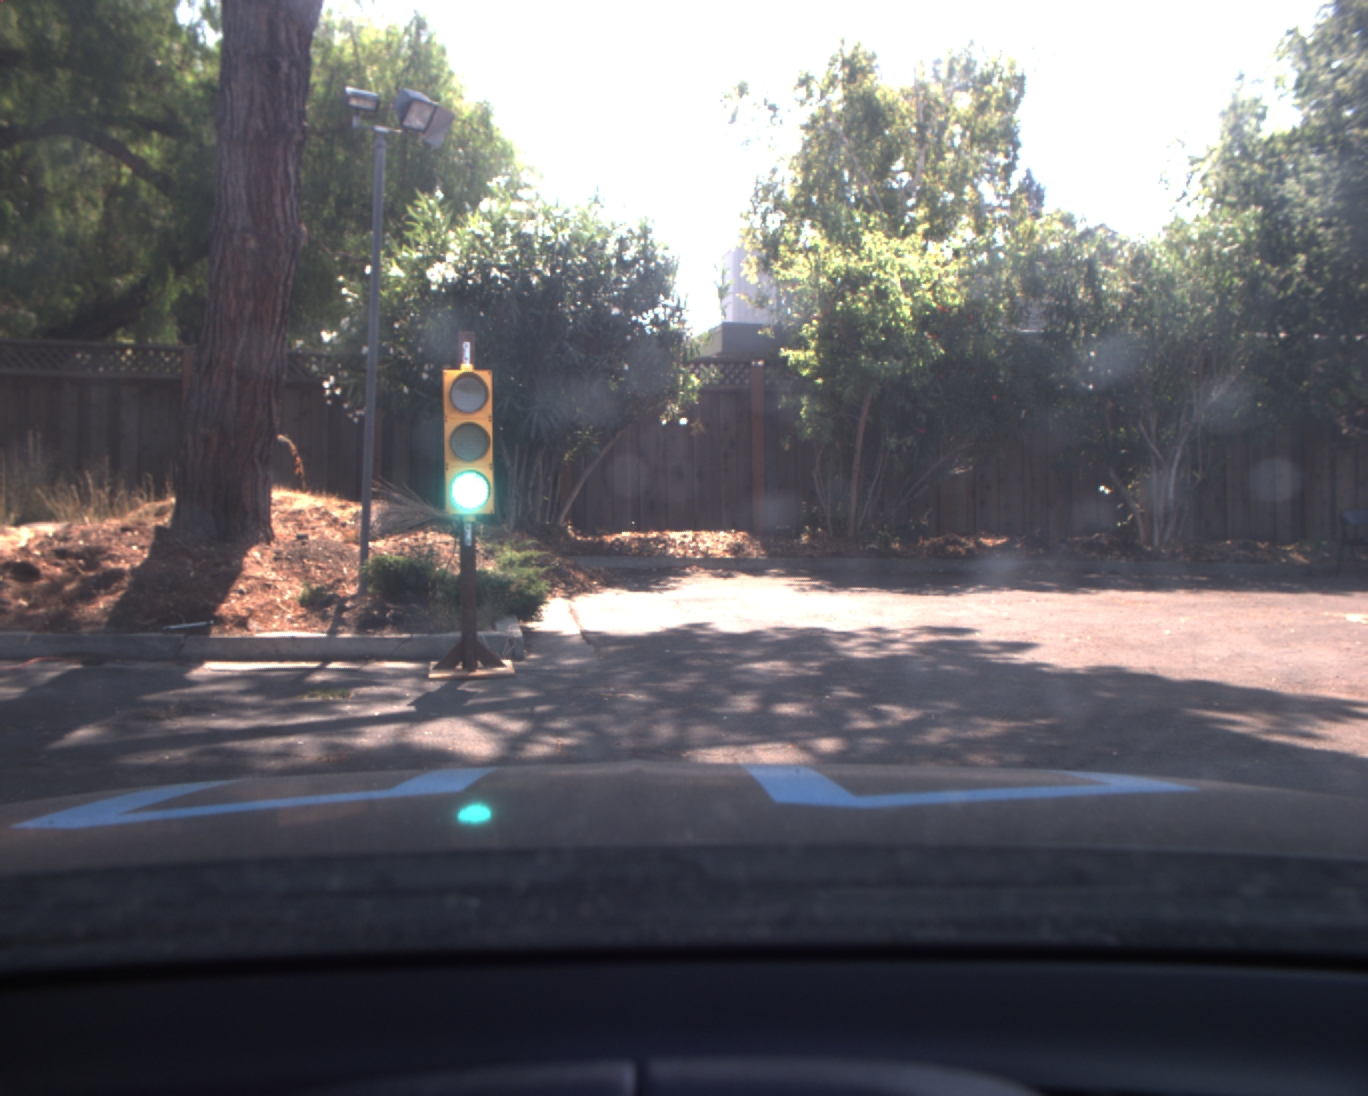green: (440, 369, 497, 522)
